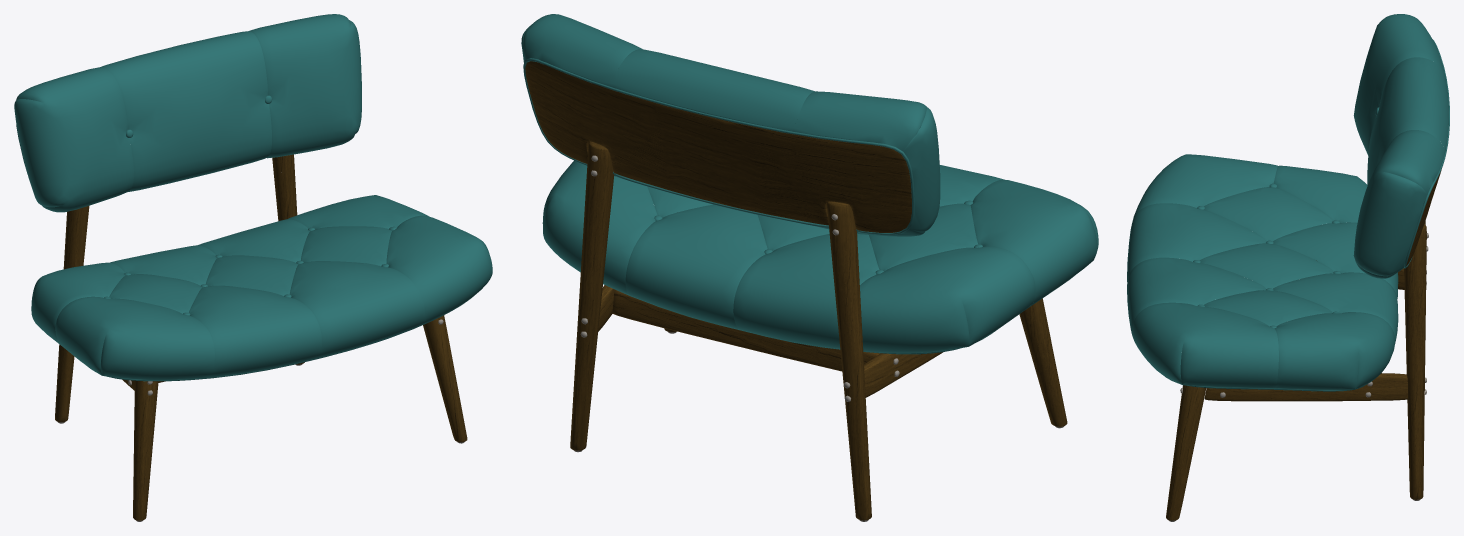
Rendered from prop_reception_chair.glb.
3 views of the same model, side by side, from view 1: azimuth 30°, elevation 25°; view 2: azimuth 150°, elevation 25°; view 3: azimuth 270°, elevation 25° (orthographic). The views are drawn at different scales.
Visible parts, largest first — view 1: SheenChair_fabric; view 2: SheenChair_fabric; view 3: SheenChair_fabric.
Part boxes in pixels (x1,y1,x2,y2): SheenChair_fabric: (14, 14, 492, 521); SheenChair_fabric: (521, 14, 1098, 521); SheenChair_fabric: (1127, 14, 1449, 521).
Size of the model in its own units: 0.8264 by 0.6864 by 0.5701.
4 materials, 2 textured.
